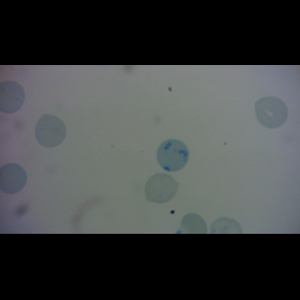aggregate reticulocyte: (155, 138, 190, 173)
erythrocyte: (33, 112, 68, 149), (253, 95, 289, 129), (1, 161, 29, 196)
punctate reticulocyte: (142, 173, 180, 204)
